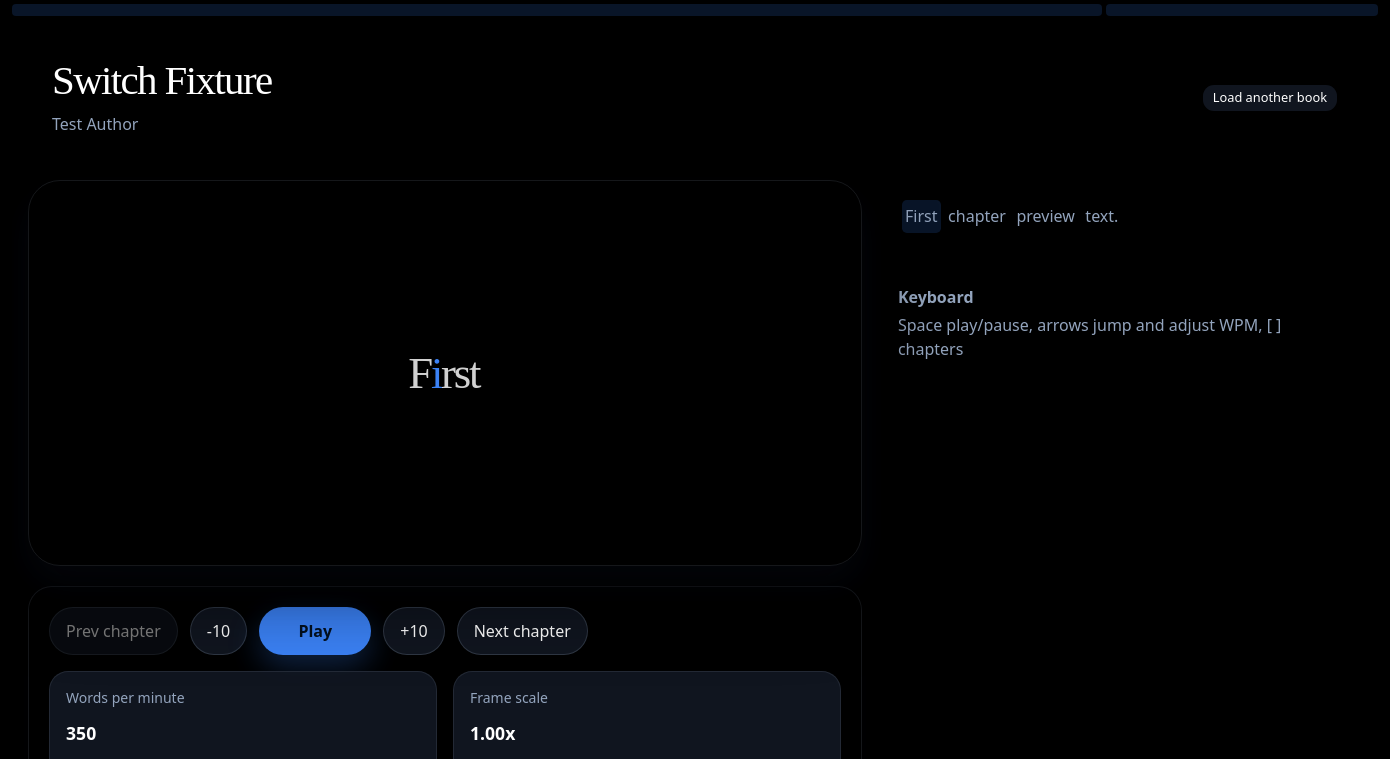
Scenario: ReaderScreen chapter switching › switches chapters from the top progress strip without a chapters toggle
expect the 2nd element titled "First" is shown: met, box [408, 351, 479, 396]
Step 1. Click the button named "Chapter 2" → (1242, 10), box [1106, 4, 1378, 16]
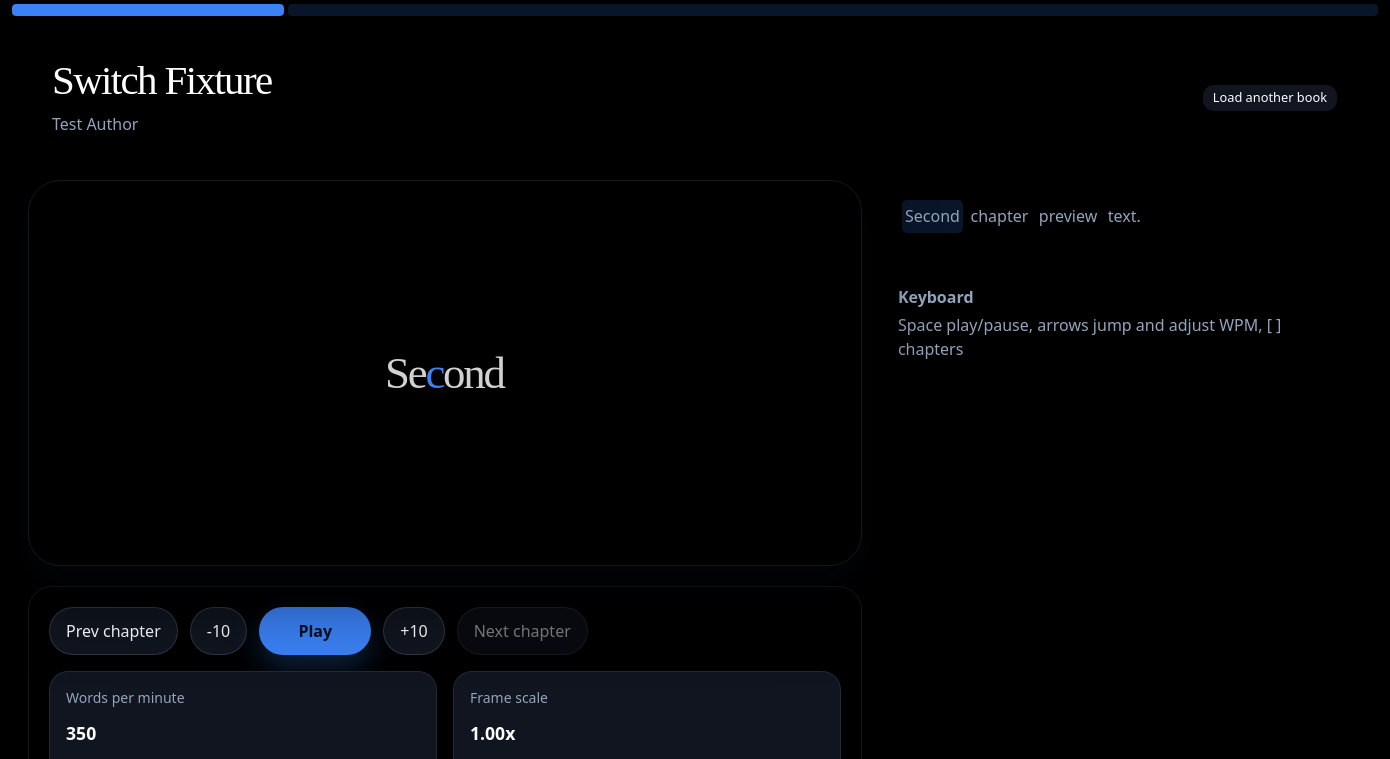
expect the 2nd element titled "Second" is shown: met, box [385, 351, 504, 396]
